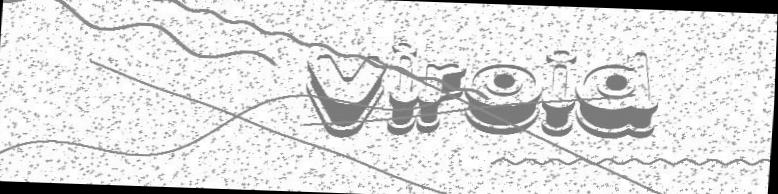d: (575, 50, 664, 140)
i: (388, 40, 423, 135), (543, 49, 581, 136)
o: (464, 62, 545, 136)
r: (417, 62, 467, 134)
v: (303, 53, 388, 138)
